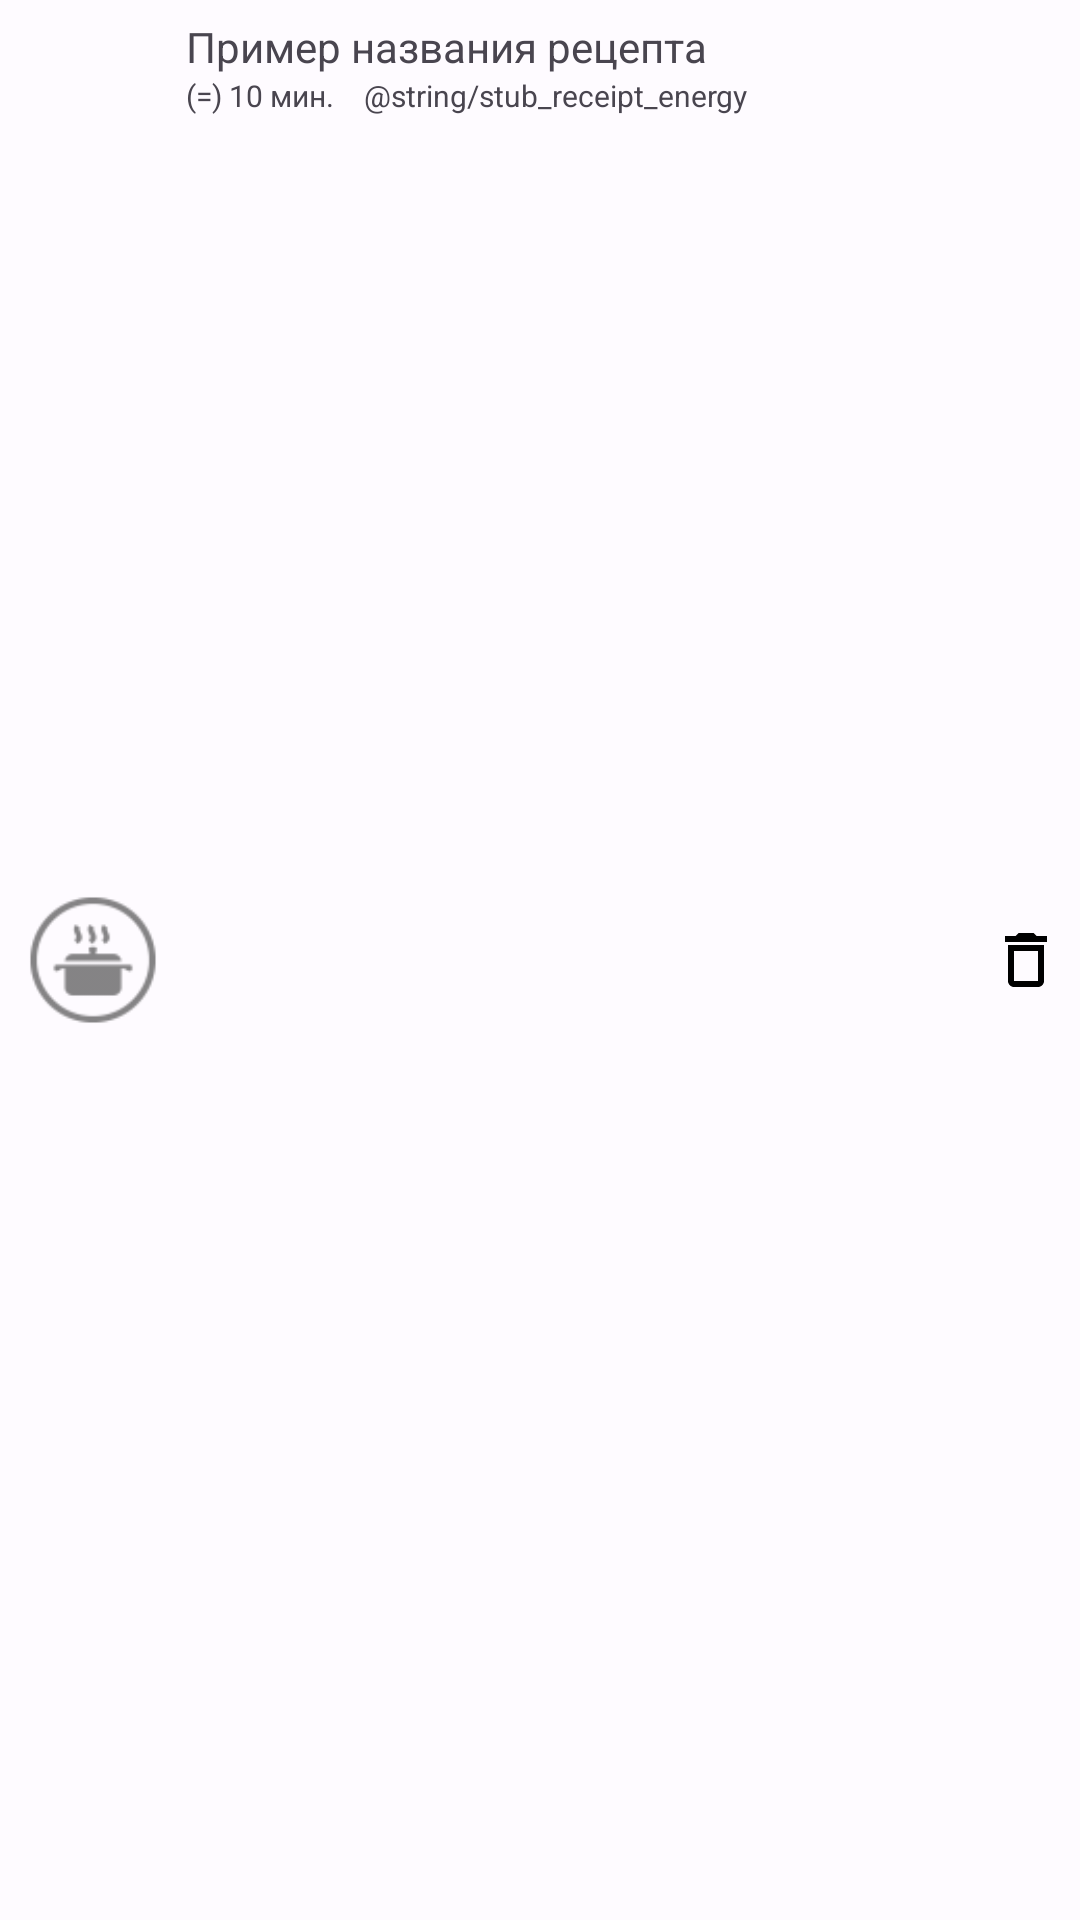

Locate icon controls on the screen. Image size 1080 × 1920, boxes as (x1, y1, x2, y2).
Миниатюра рецепта: (30, 897, 156, 1023)
Удалить из избранного: (1005, 933, 1047, 987)
